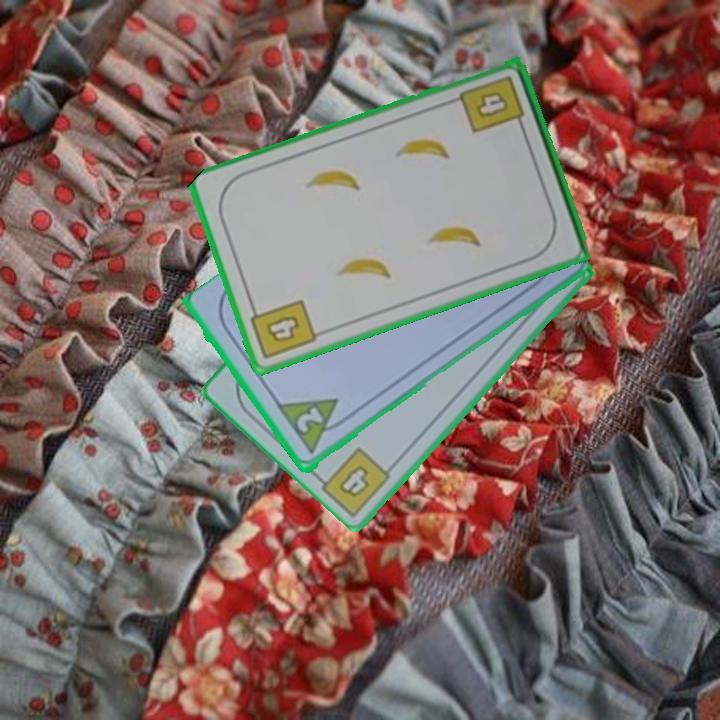2p: (274, 394, 353, 459)
4b: (246, 296, 320, 363), (456, 72, 528, 137), (335, 462, 373, 501)
